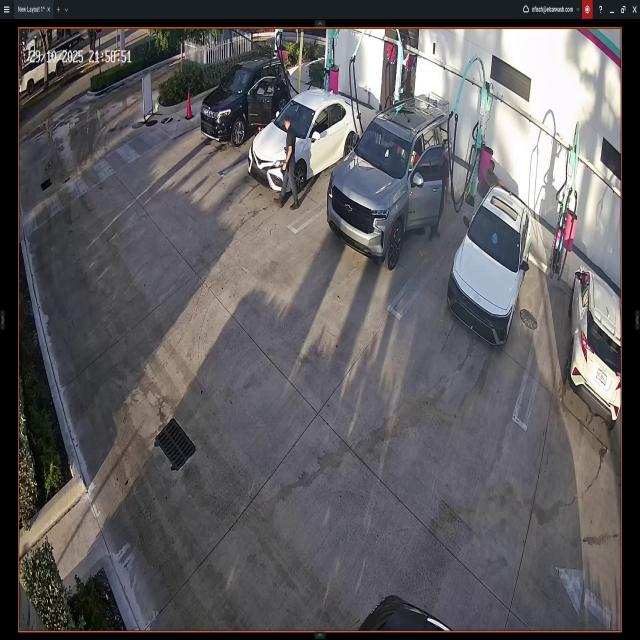Car: (327, 97, 446, 274), (449, 187, 533, 344), (248, 94, 361, 187), (199, 54, 292, 150), (567, 268, 621, 425)
